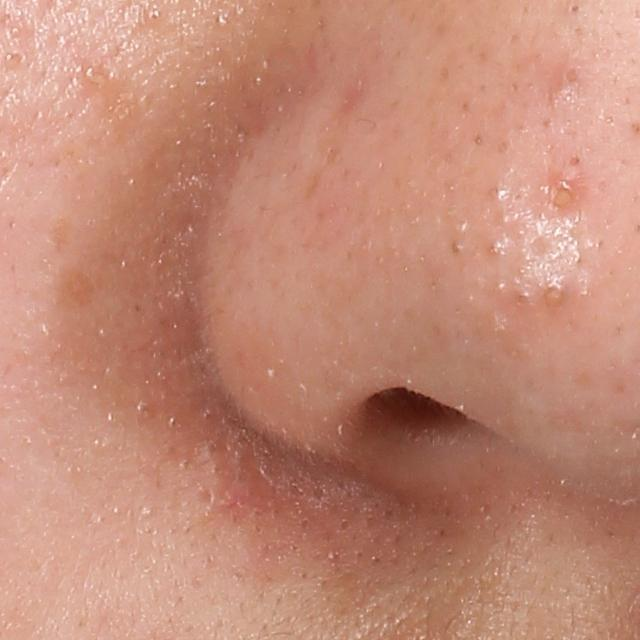comedo: (539, 280, 566, 312), (567, 0, 583, 15)
